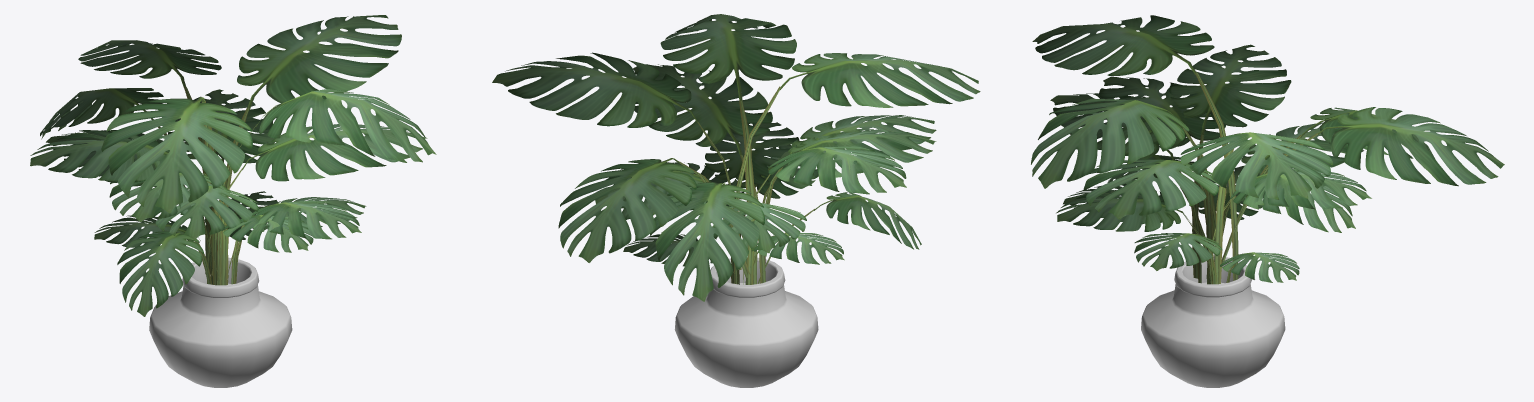
Rendered from SM_Potted_LargeLeaves.fbx.
3 views of the same model, side by side, from view 1: azimuth 30°, elevation 25°; view 2: azimuth 150°, elevation 25°; view 3: azimuth 270°, elevation 25° (orthographic).
Parts seen in each view (by area): view 1: SM_Potted_LargeLeaves_LOD0; view 2: SM_Potted_LargeLeaves_LOD0; view 3: SM_Potted_LargeLeaves_LOD0.
Part boxes in pixels (box(x1,y1,x2,y2)): SM_Potted_LargeLeaves_LOD0: box(30, 15, 436, 387); SM_Potted_LargeLeaves_LOD0: box(492, 14, 980, 387); SM_Potted_LargeLeaves_LOD0: box(1031, 15, 1504, 387).
Size of the model in its own units: 141 by 146 by 100.
Materials: 2 (1 with a texture image).
